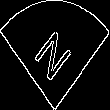N_SW: (32, 23, 78, 87)
